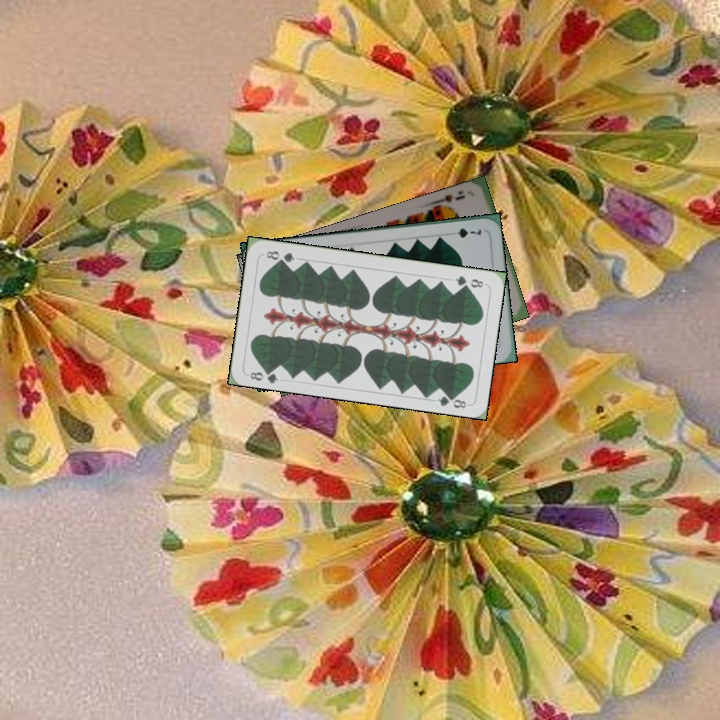G7: (444, 224, 484, 240)
G8: (246, 364, 281, 385), (451, 272, 486, 291)
S9: (433, 187, 468, 213)
